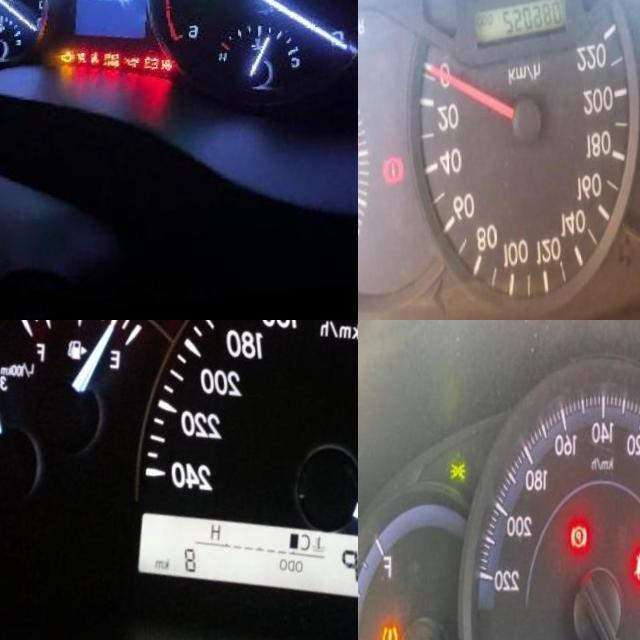Seat Belt: (632, 558, 640, 589)
